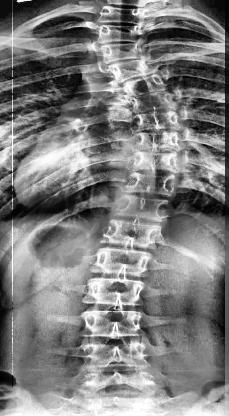Vertebrae: (80, 340, 156, 370), (100, 219, 166, 249), (79, 308, 149, 336), (94, 246, 155, 278), (80, 278, 148, 304), (119, 174, 182, 198), (111, 196, 173, 219), (94, 2, 148, 26), (124, 75, 178, 97), (104, 62, 158, 84), (125, 152, 183, 172), (129, 93, 187, 111), (132, 132, 186, 150), (96, 43, 144, 63), (132, 115, 188, 132), (96, 27, 142, 44)
